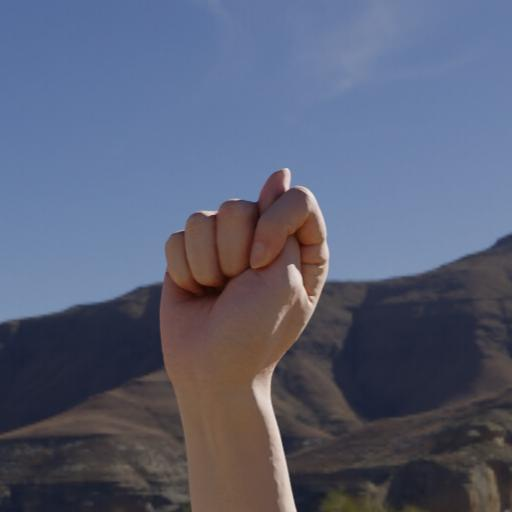T: (116, 152, 350, 392)
